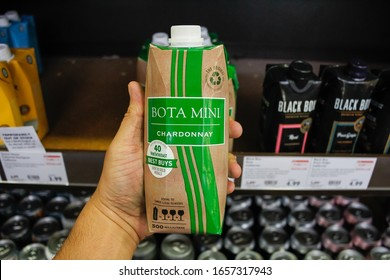carton: (143, 12, 238, 245)
